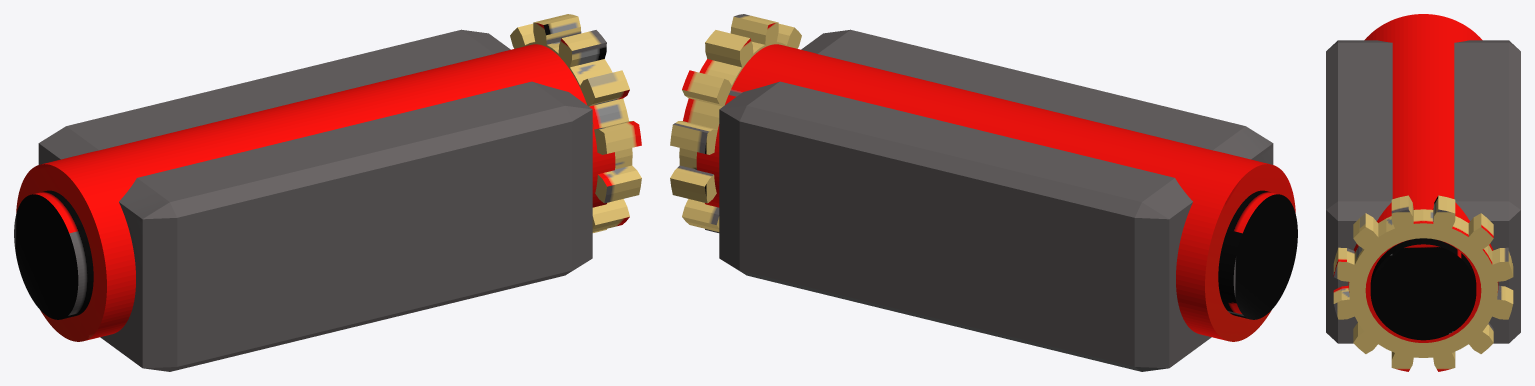
The model's file is turret_head 2.fbx.
3 views of the same model, side by side, from view 1: azimuth 30°, elevation 25°; view 2: azimuth 150°, elevation 25°; view 3: azimuth 270°, elevation 25° (orthographic). The views are drawn at different scales.
Parts seen in each view (by area): view 1: turret cannon.003; view 2: turret cannon.003; view 3: turret cannon.003.
Part boxes in pixels (x1=…): turret cannon.003: x1=14, y1=14, x2=641, y2=371; turret cannon.003: x1=670, y1=14, x2=1297, y2=371; turret cannon.003: x1=1326, y1=14, x2=1520, y2=371.
Bounding box in the file's own units: 240 × 83.89 × 91.06.
Materials: 1 (1 with a texture image).
